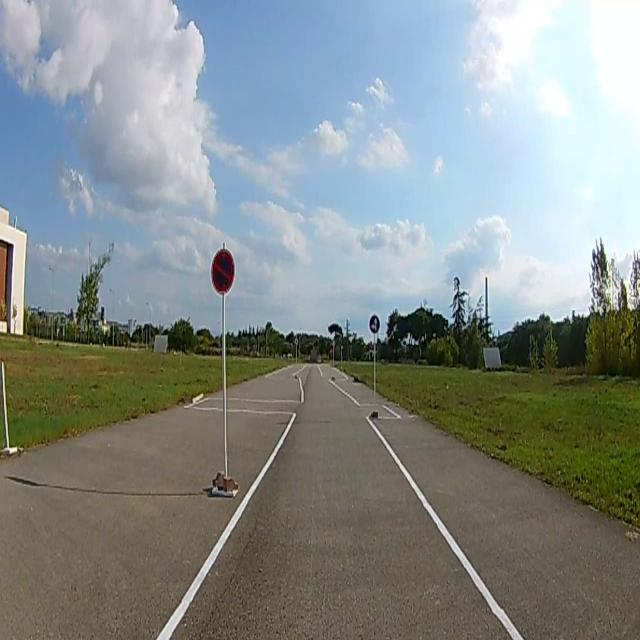ilerisol: (370, 314, 379, 334)
parkyasak: (211, 249, 235, 294)
